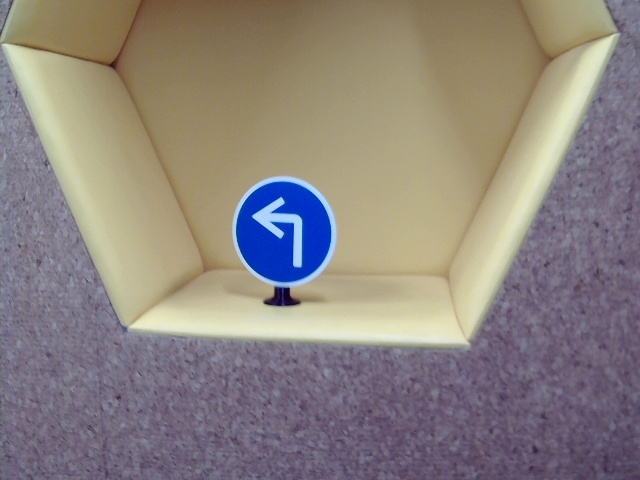turn_left: (251, 197, 308, 271)
